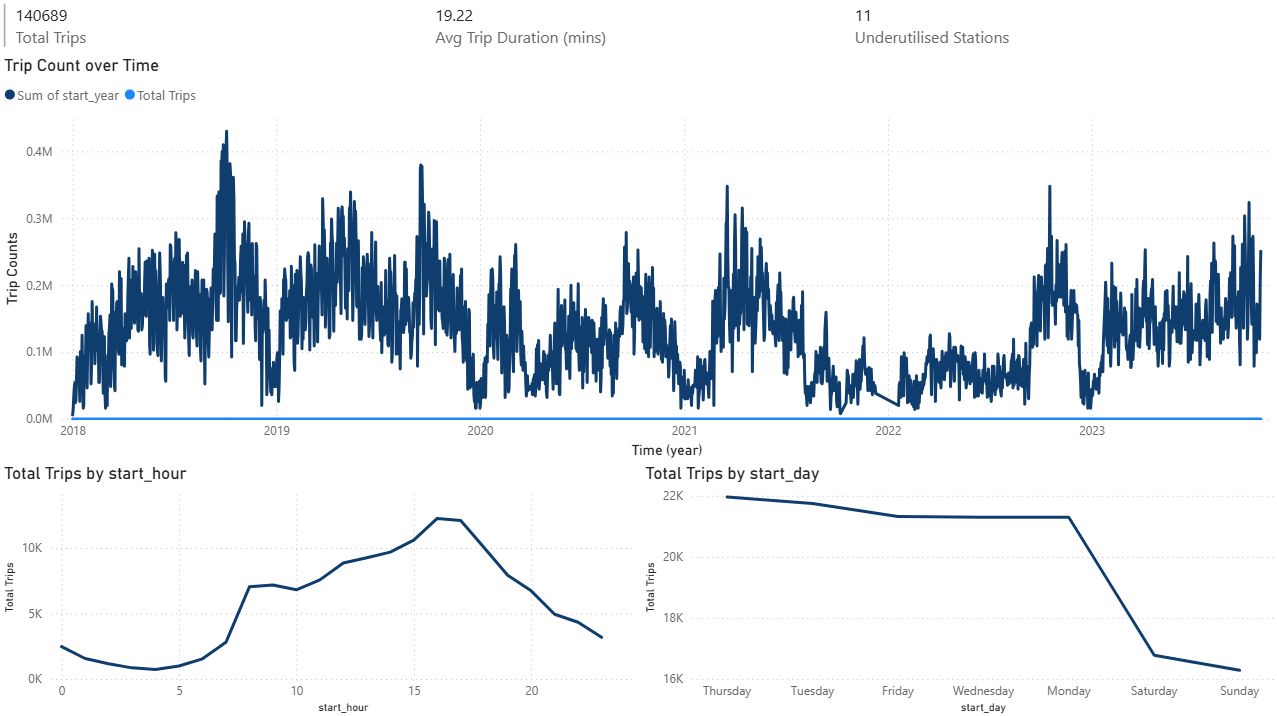

This screenshot's page, from the dashboard's own definition file:
{"tool":"powerbi","page":{"name":"Time Series Analysis","canvas":[1280,720],"ordinal":0},"visuals":[{"type":"multiRowCard","fields":{"Values":["Next bike Stirling 2018 - 2023.Total Trips","Next bike Stirling 2018 - 2023.Avg Trip Duration (mins)","Next bike Stirling 2018 - 2023.Underutilised Stations"]},"box":[0,0,1280.3,70.9],"z":0},{"type":"lineChart","title":"Trip Count over Time","fields":{"Y":["Sum(Next bike Stirling 2018 - 2023.start_year)","Next bike Stirling 2018 - 2023.Total Trips"],"Category":["Next bike Stirling 2018 - 2023.start_time.Variation.Date Hierarchy.Year","Next bike Stirling 2018 - 2023.start_time.Variation.Date Hierarchy.Quarter","Next bike Stirling 2018 - 2023.start_time.Variation.Date Hierarchy.Month","Next bike Stirling 2018 - 2023.start_time.Variation.Date Hierarchy.Day"]},"box":[0,56.2,1280,407.5],"z":1000},{"type":"lineChart","fields":{"Y":["Next bike Stirling 2018 - 2023.Total Trips"],"Category":["Next bike Stirling 2018 - 2023.start_hour"]},"box":[0,463.8,641.2,256.2],"z":2000},{"type":"lineChart","fields":{"Category":["Next bike Stirling 2018 - 2023.start_day"],"Y":["Next bike Stirling 2018 - 2023.Total Trips"]},"box":[641.2,463.8,638.8,256.2],"z":3000}]}

Visuals, with their boxes in screenshot pixels (x1, y1, x2, y2), scaled from the page's 1280x720 canvas onto the 1277x716 screenshot:
multiRowCard - Next bike Stirling 2018 - 2023.Total Trips x Next bike Stirling 2018 - 2023.Avg Trip Duration (mins): bbox=(0, 0, 1276, 71)
"Trip Count over Time" lineChart: bbox=(0, 56, 1276, 461)
lineChart - Next bike Stirling 2018 - 2023.Total Trips x Next bike Stirling 2018 - 2023.start_hour: bbox=(0, 461, 640, 715)
lineChart - Next bike Stirling 2018 - 2023.start_day x Next bike Stirling 2018 - 2023.Total Trips: bbox=(640, 461, 1276, 715)
